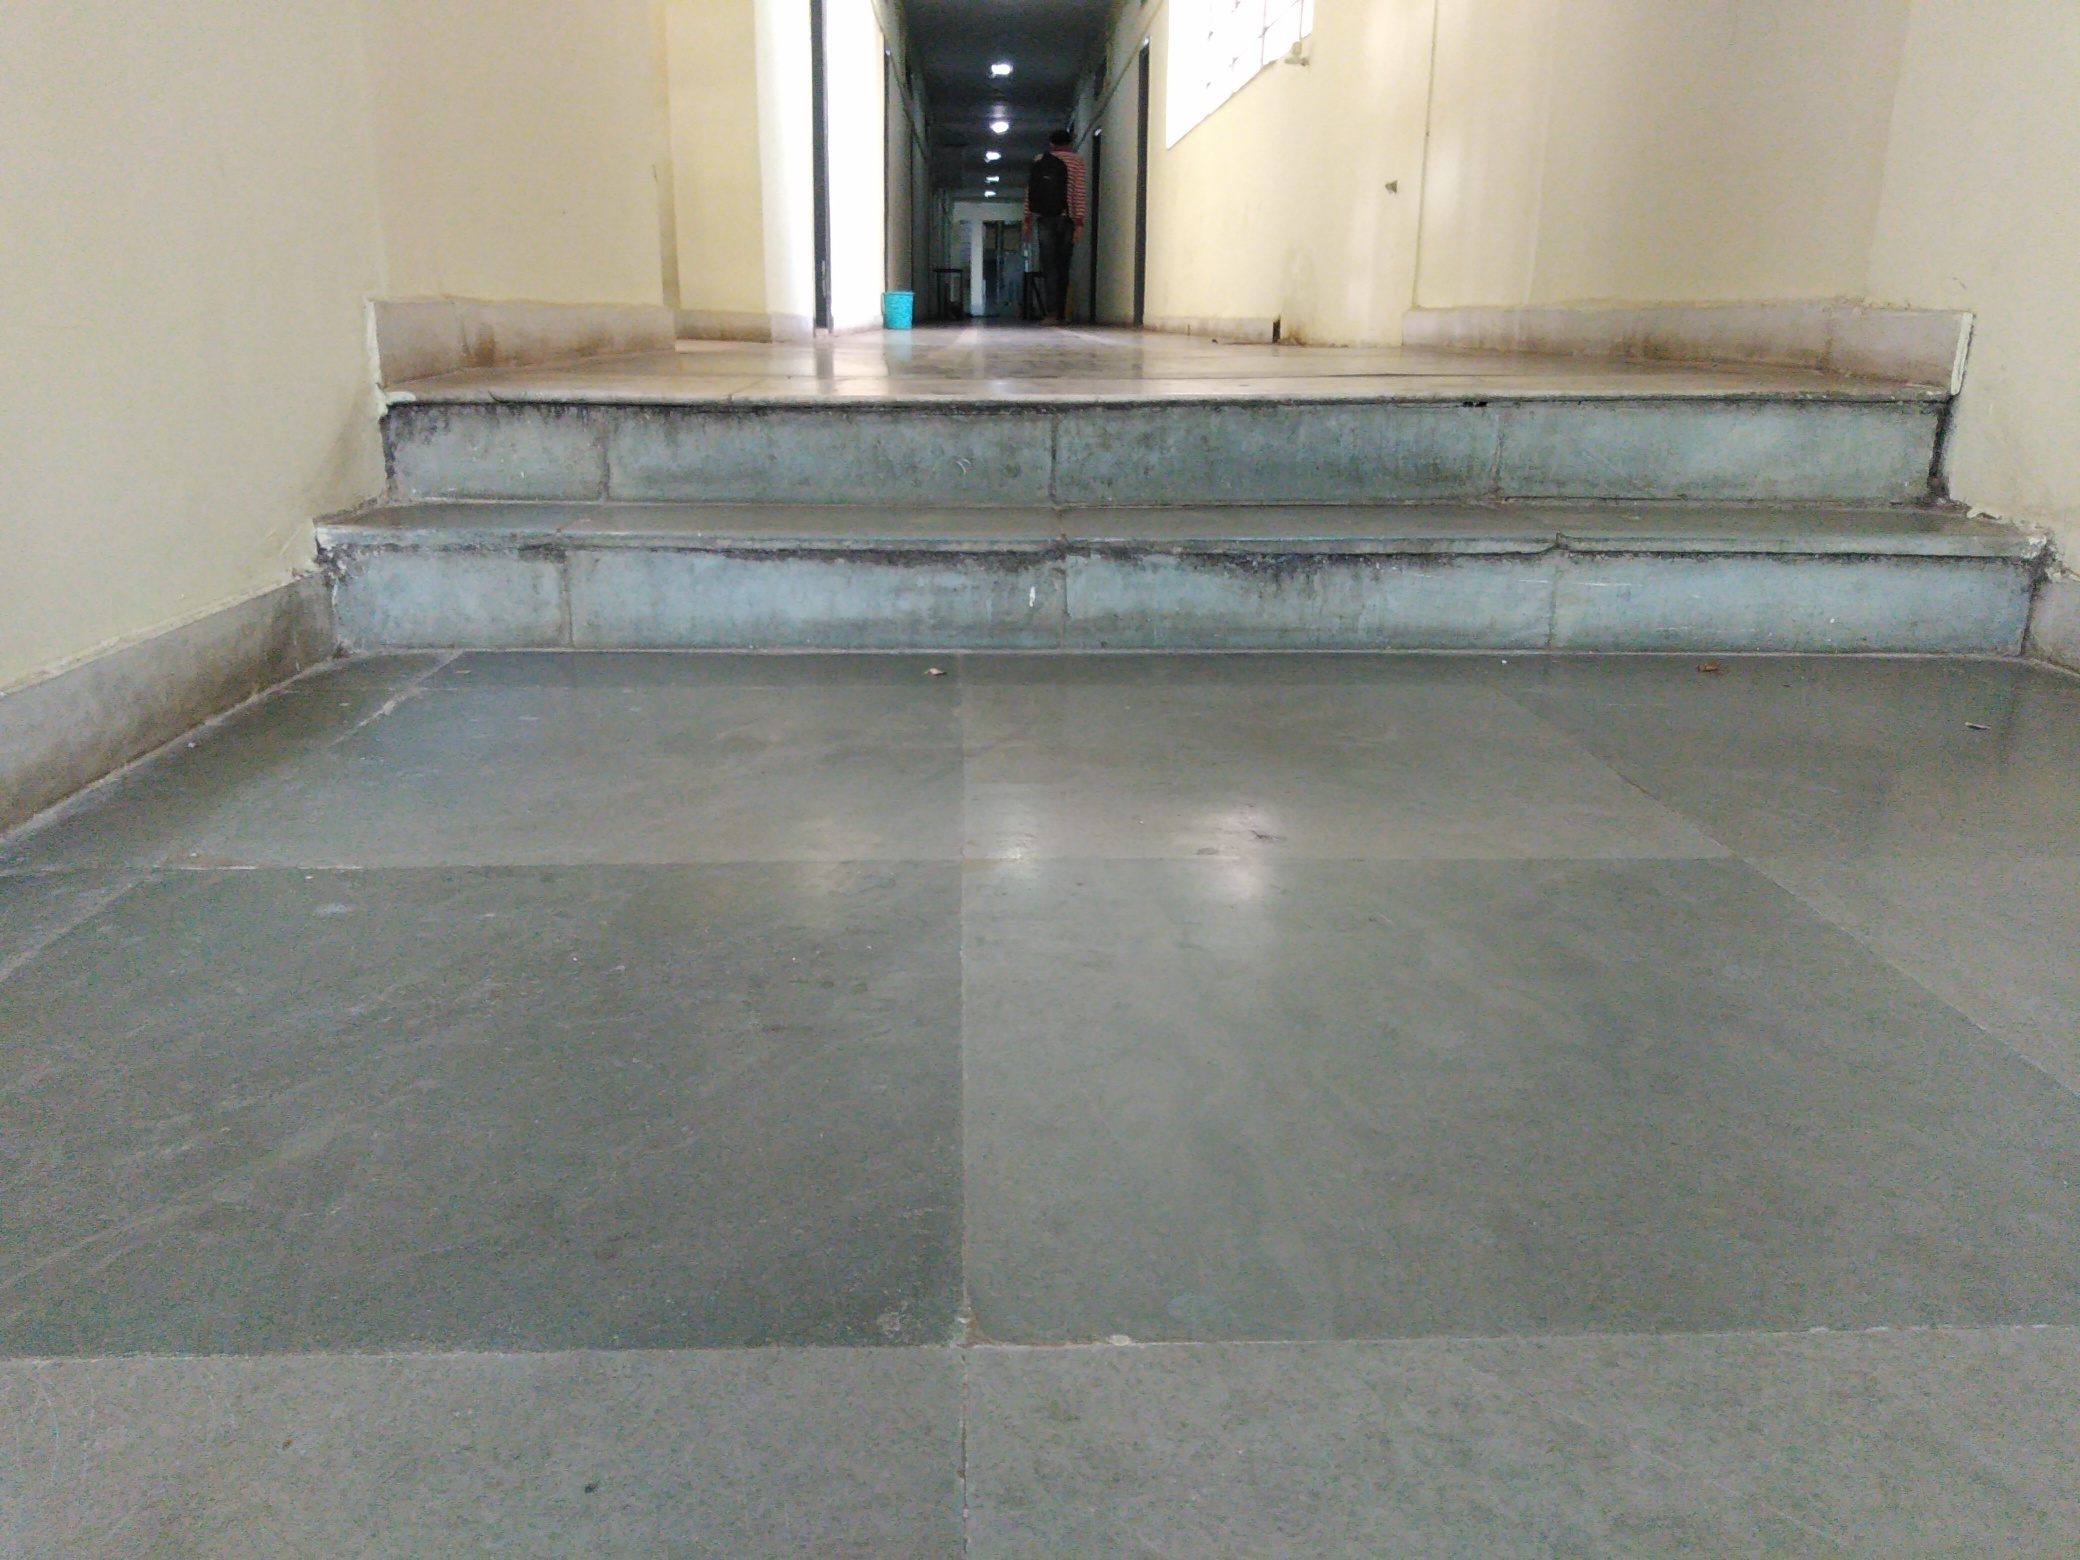stairs_up: (313, 395, 2080, 701)
